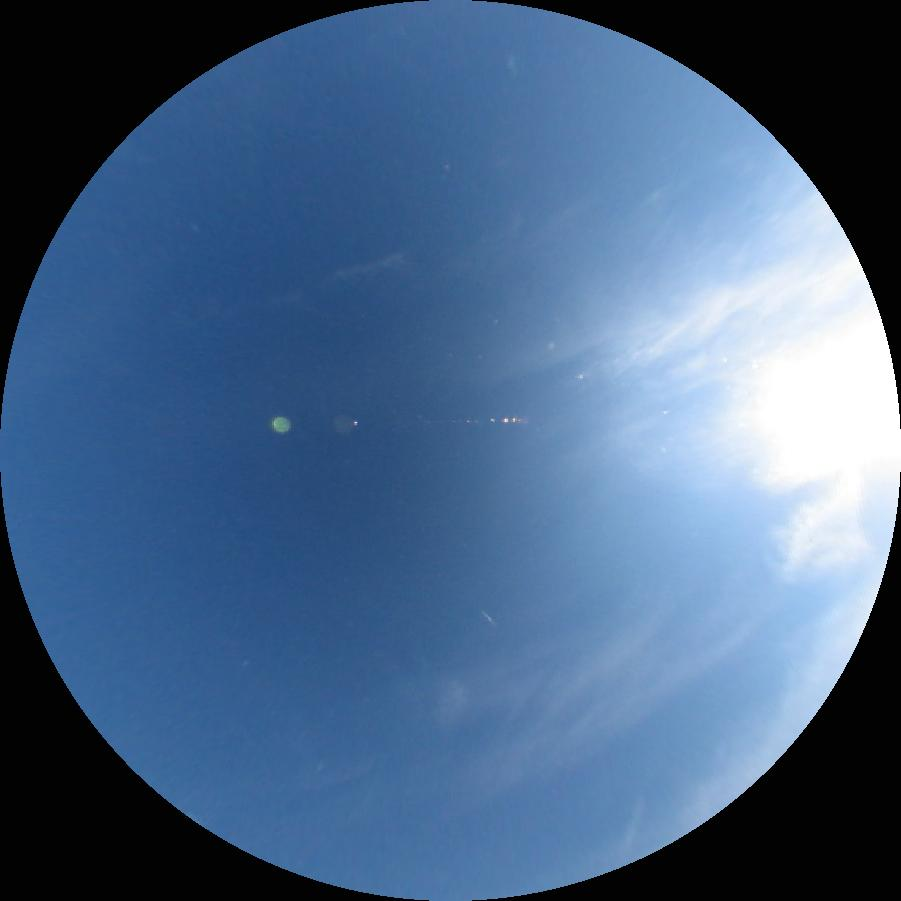contrail maybe: (482, 611, 495, 624)
contrail veryold: (271, 185, 868, 390), (780, 463, 872, 586)
sun: (769, 333, 899, 465)
